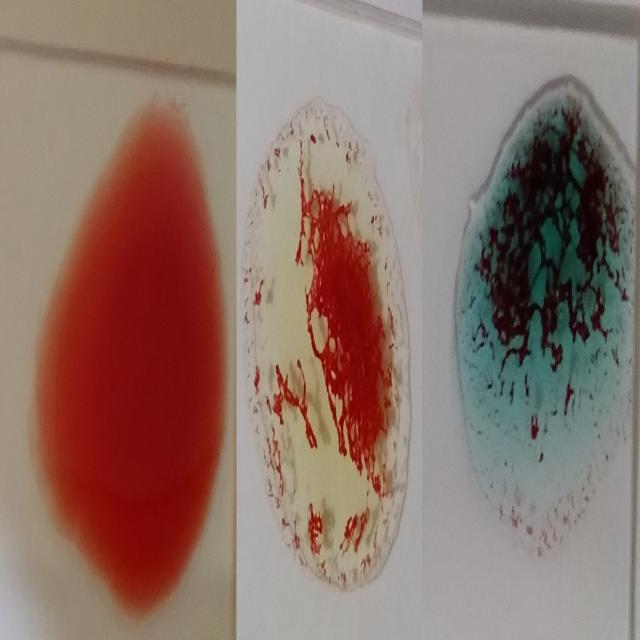A: (455, 75, 638, 563)
B: (245, 91, 408, 591)
